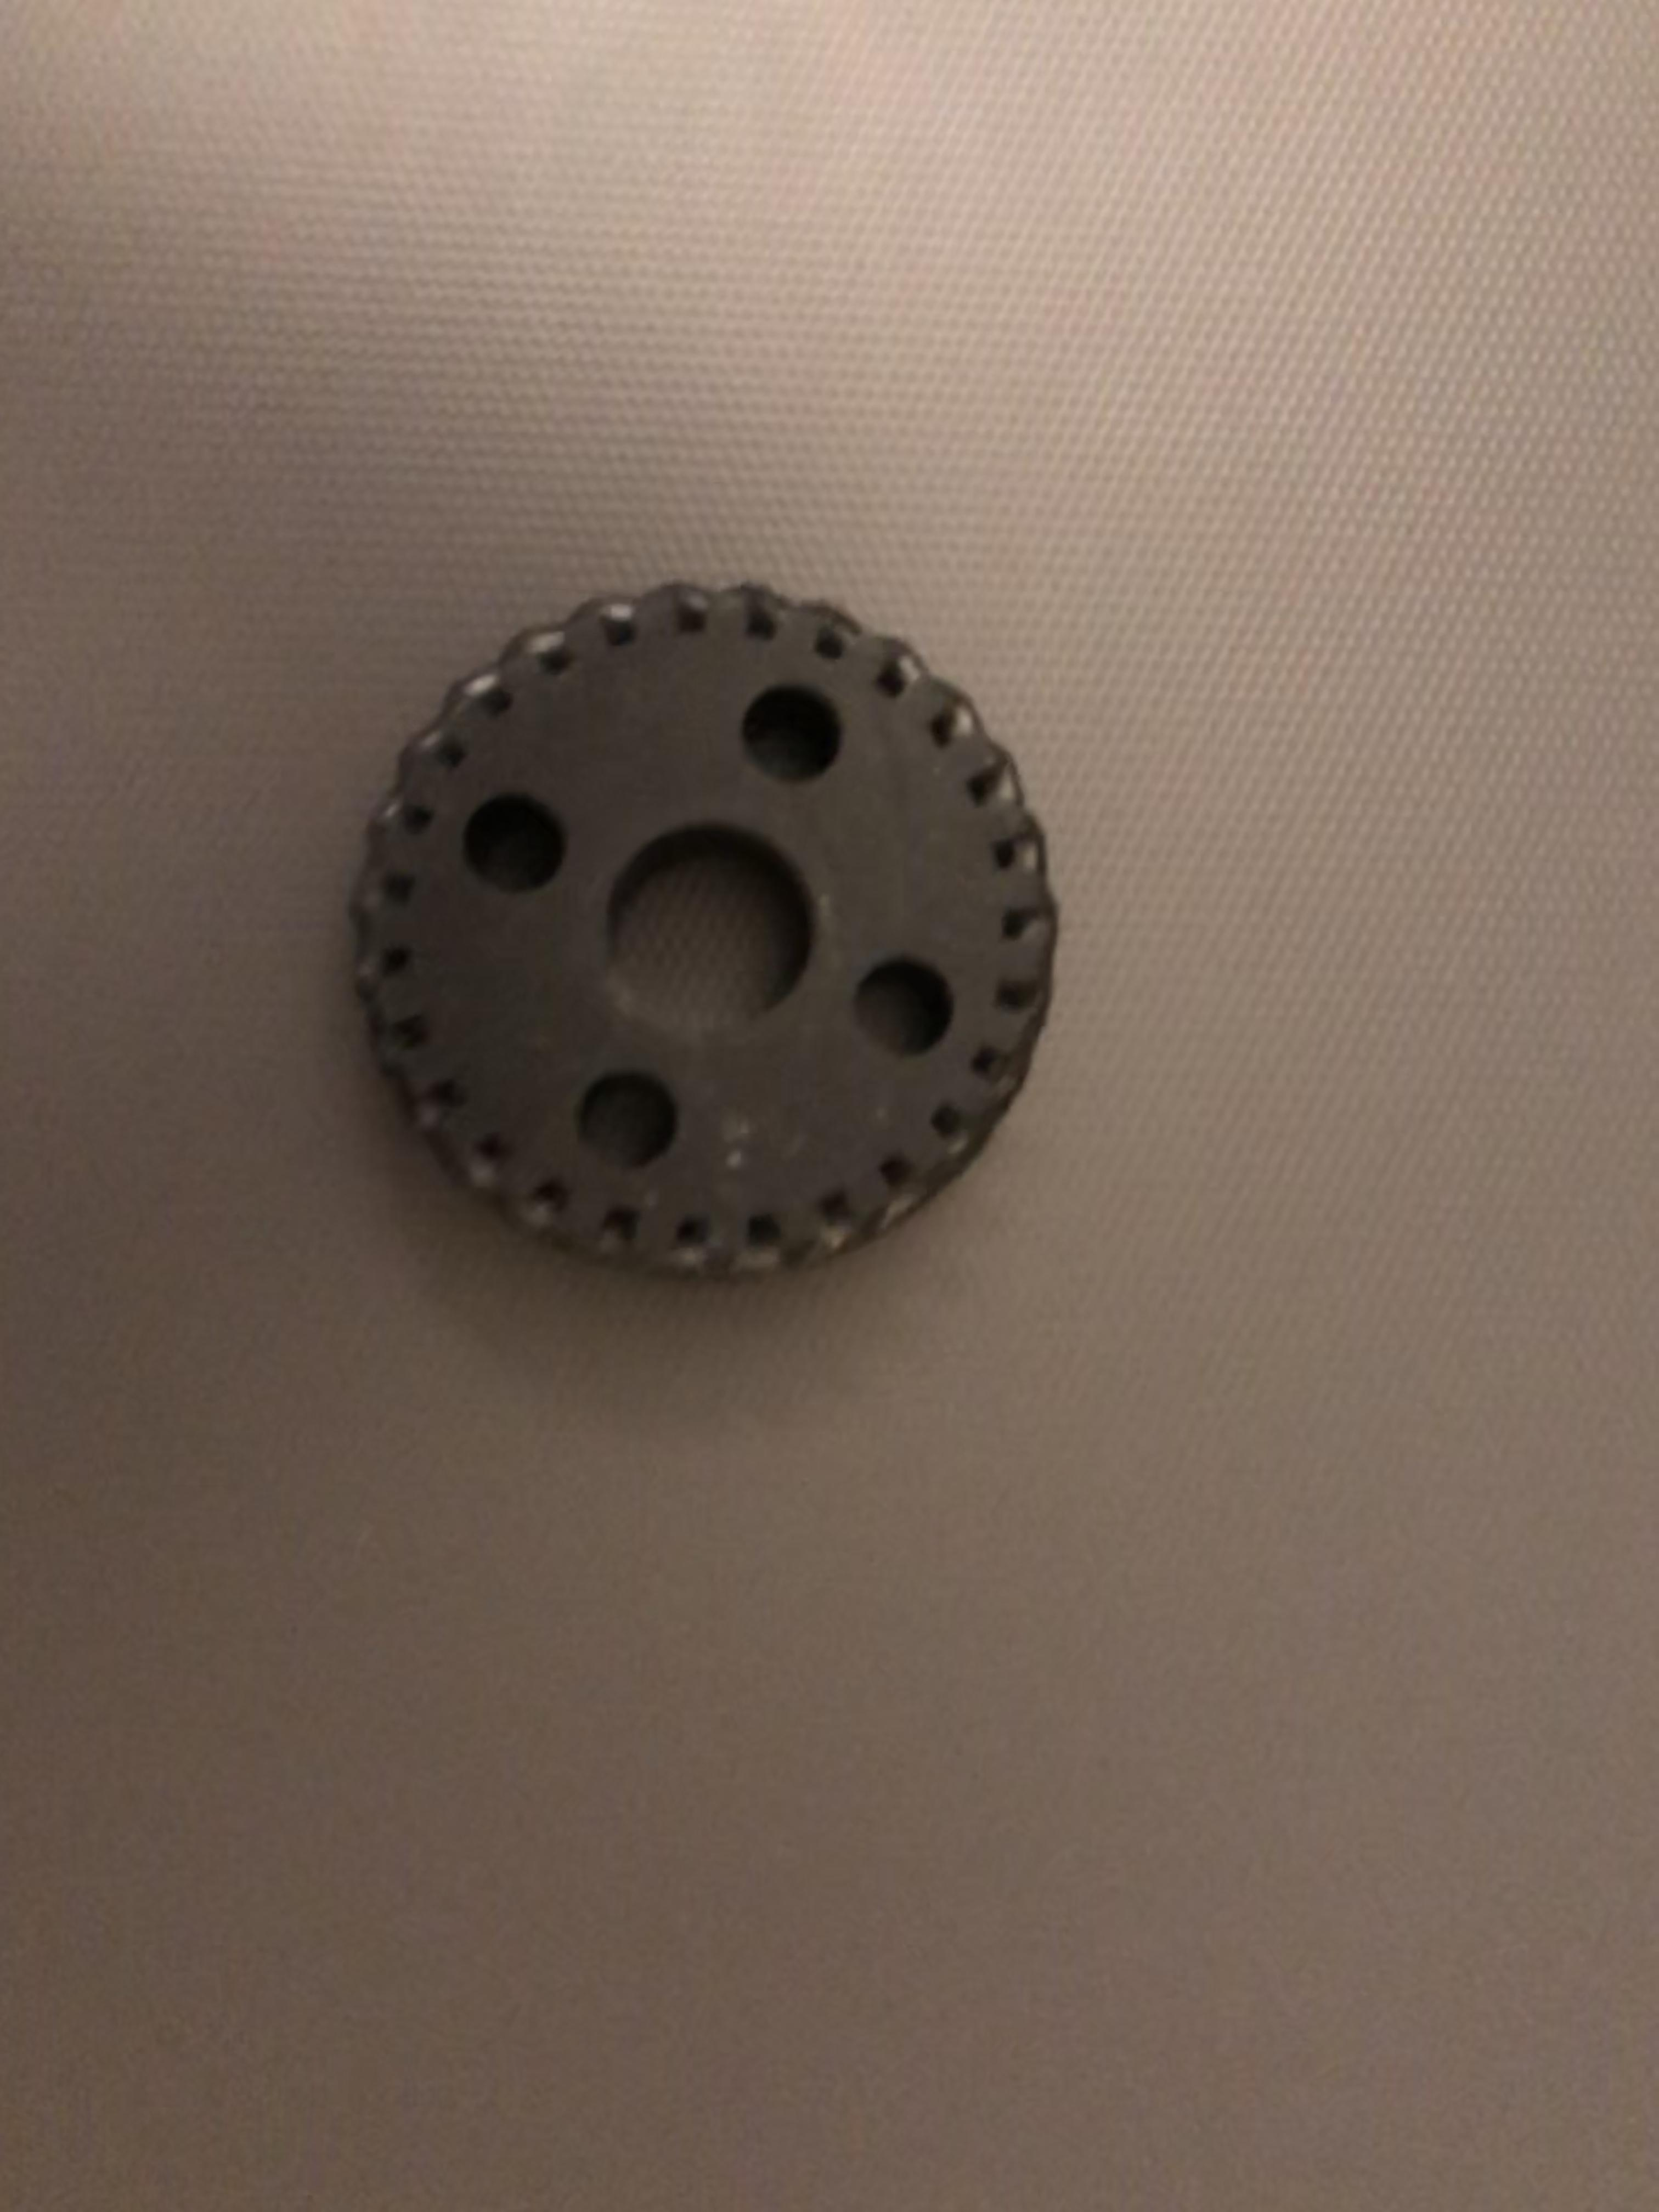Wheel: (352, 570, 1070, 1299)
White Cone: (343, 563, 1079, 1317)
